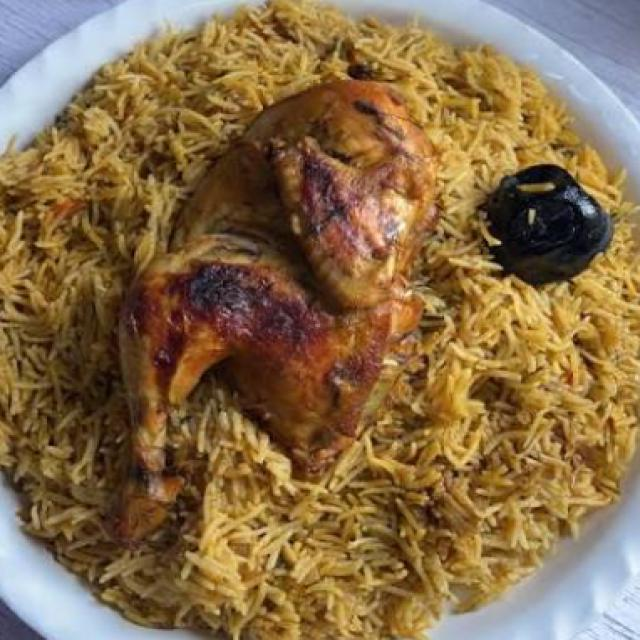Machboos: (56, 74, 619, 586)
